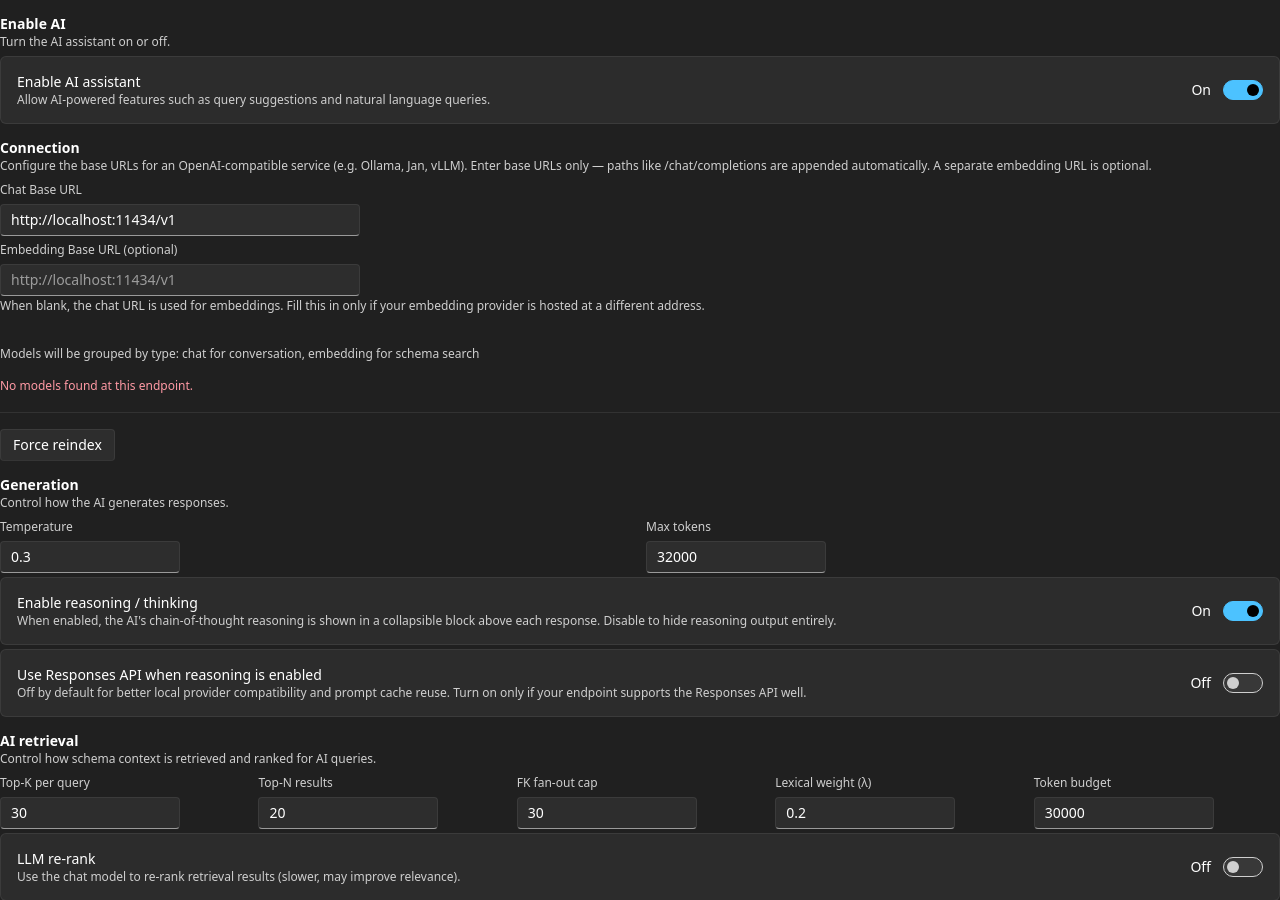
it: AiSettings - Force Reindex › confirm dialog closes after successful reindex
The image size is (1280, 900).
Click the button with test id "ai-force-reindex-btn" at (57, 445), box [0, 429, 115, 461]
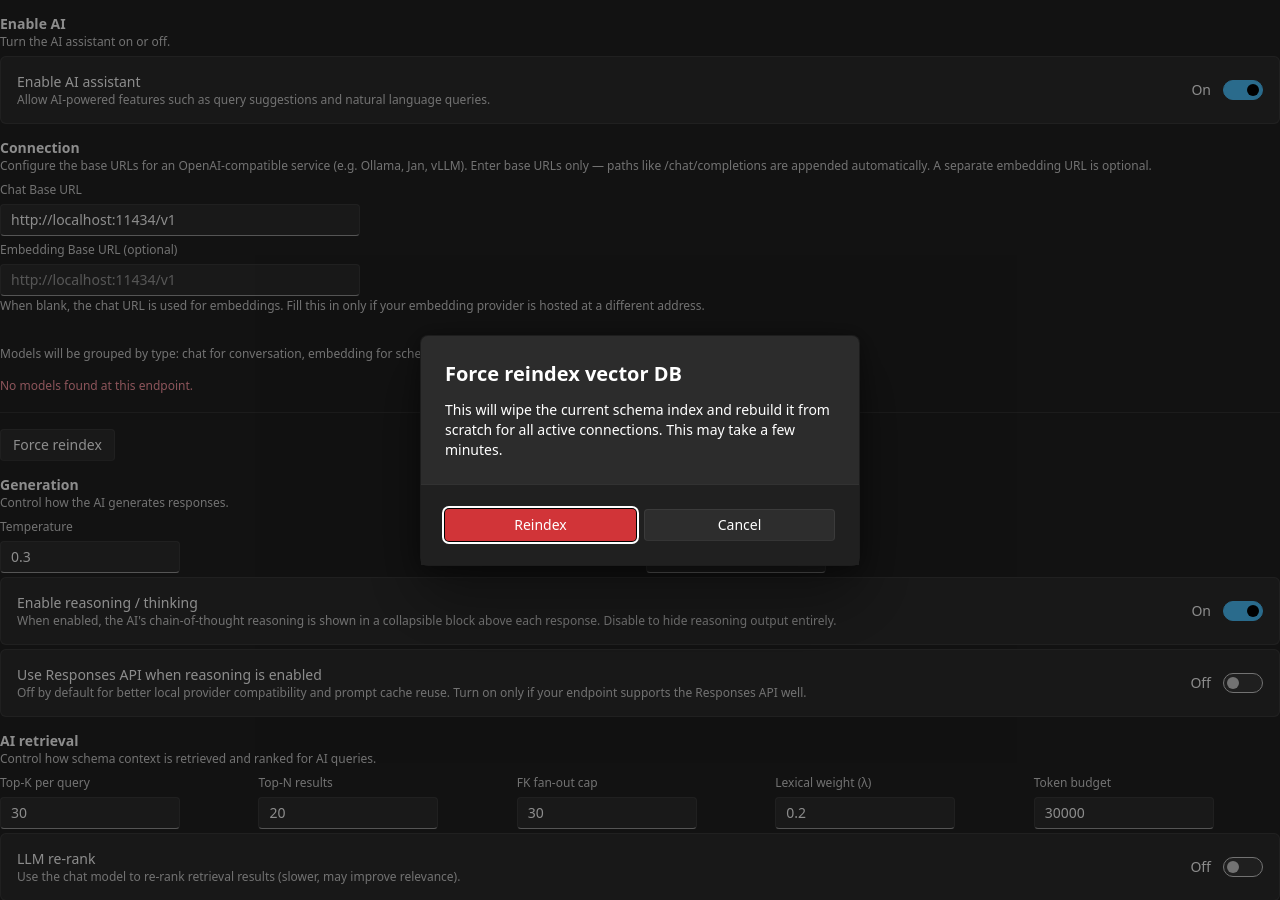
Click the button with test id "confirm-confirm-button" at (540, 524), box [445, 508, 636, 540]
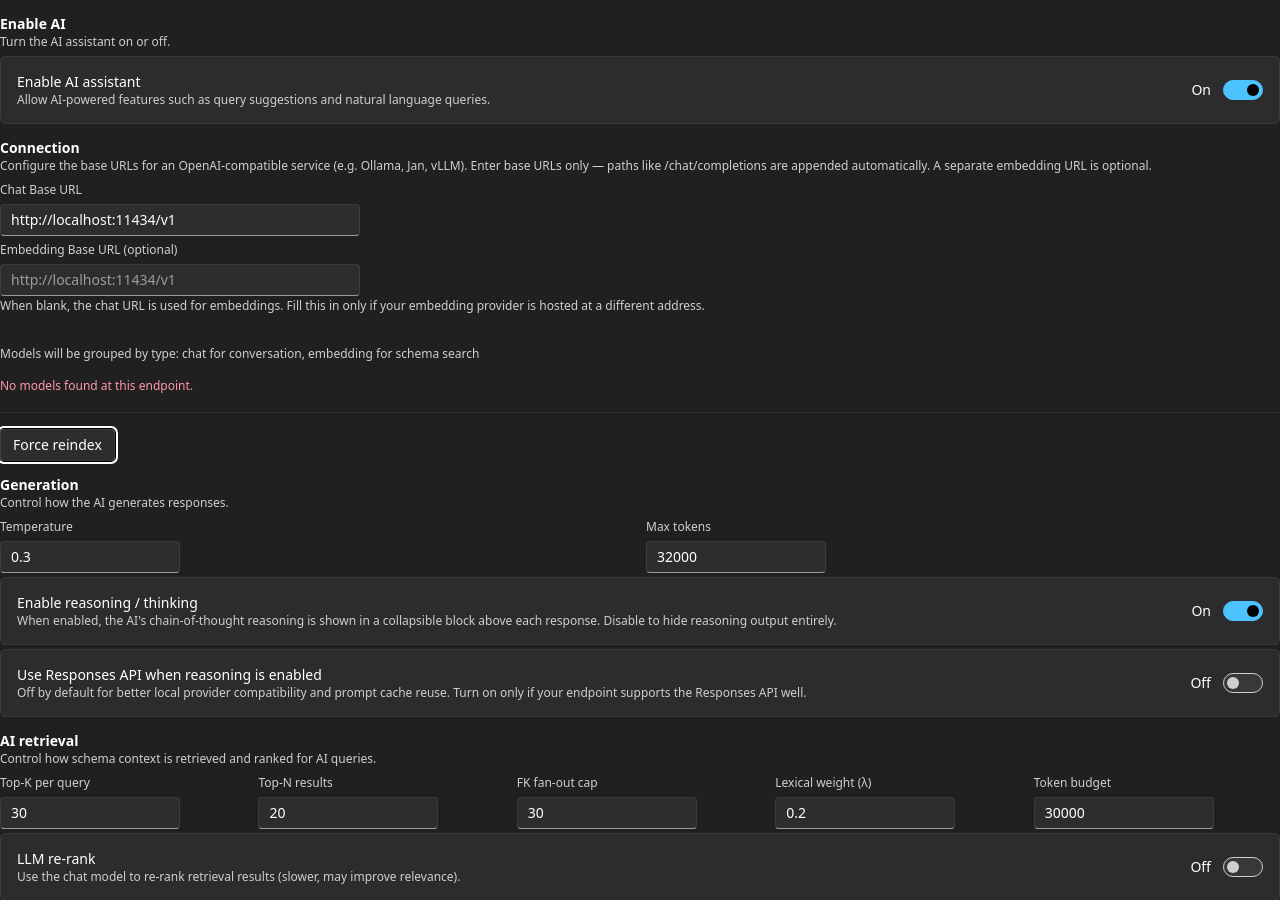
Expected: the dialog with test id "confirm-dialog" is gone
